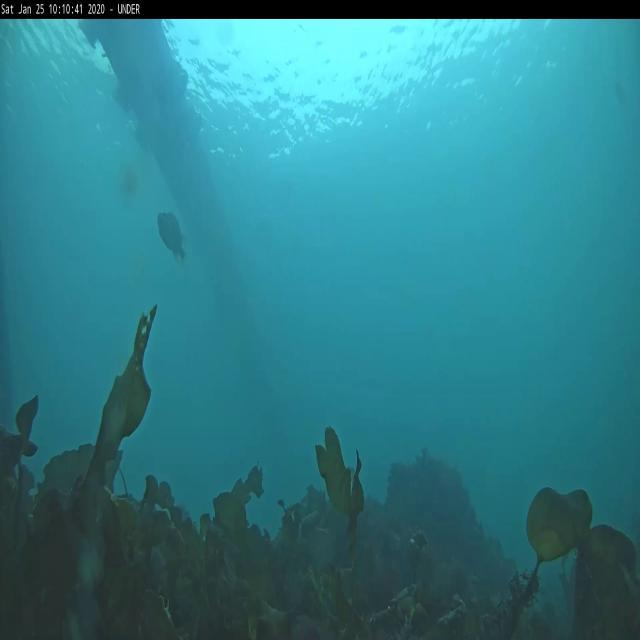fish: (157, 212, 189, 261)
